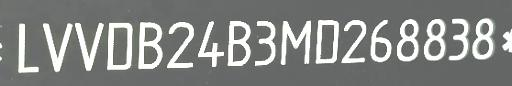letter: (40, 20, 74, 72), (278, 17, 312, 67), (73, 21, 105, 71), (14, 21, 42, 75), (105, 19, 133, 71), (195, 19, 225, 67), (340, 17, 368, 67), (136, 20, 164, 70), (314, 17, 342, 65), (225, 18, 253, 66), (166, 21, 194, 69), (394, 16, 422, 61), (471, 15, 497, 60), (253, 18, 277, 66), (421, 17, 447, 61), (369, 18, 395, 62), (446, 17, 470, 62)
